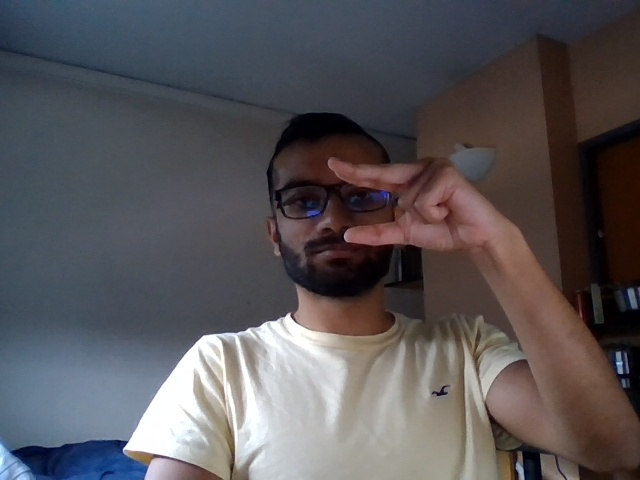No: (315, 146, 522, 268)
